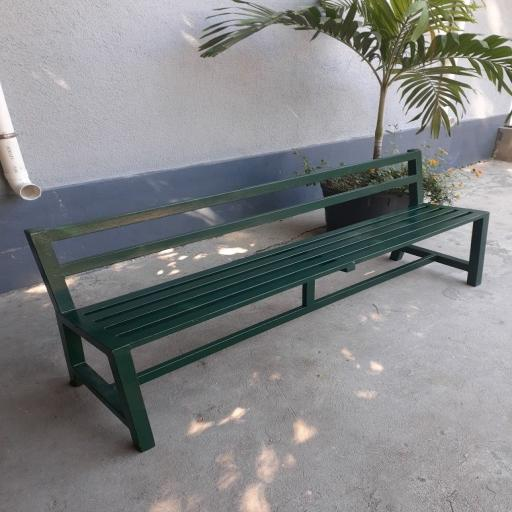trash_bin: (26, 150, 489, 451)
